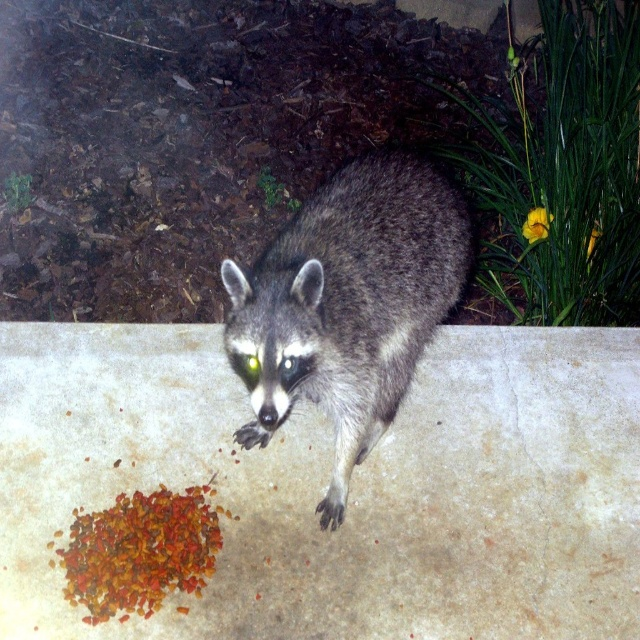Raccoon: (220, 148, 472, 532)
